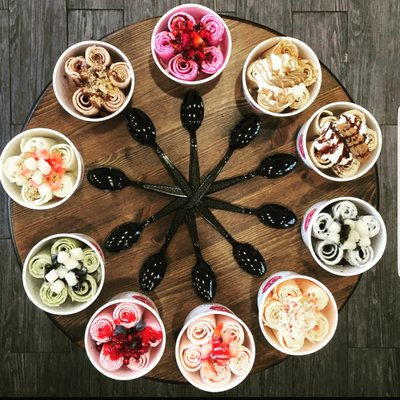salad: (124, 107, 192, 192), (205, 195, 297, 229), (180, 89, 204, 190)
sushi: (84, 293, 166, 382), (175, 304, 256, 392), (296, 101, 383, 182), (300, 196, 387, 277), (23, 233, 106, 317), (257, 271, 339, 356), (0, 128, 82, 211), (52, 40, 135, 122), (151, 4, 232, 86), (242, 35, 322, 118)
